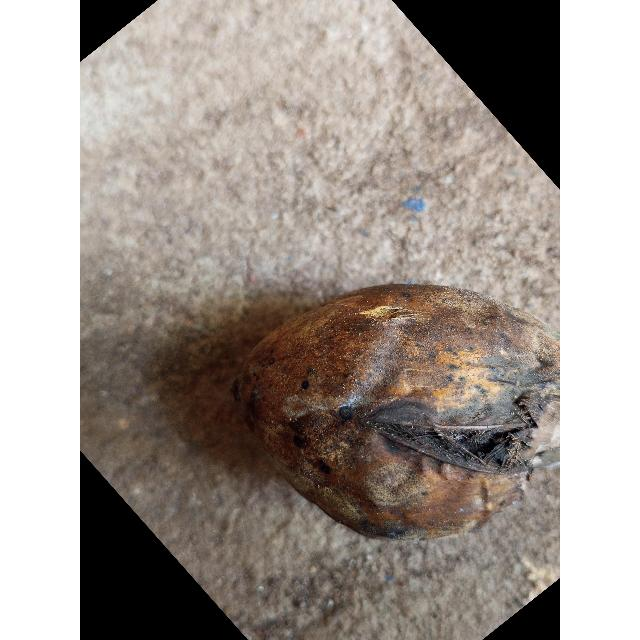damaged: (229, 283, 560, 543)
